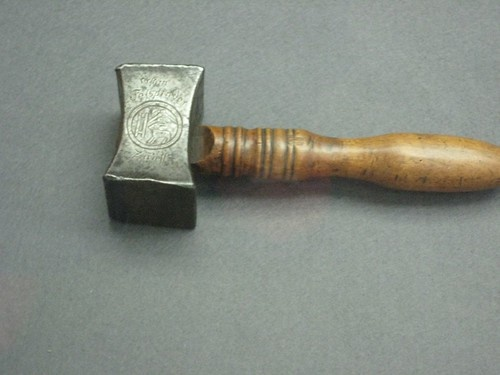hammer: (108, 59, 500, 224)
